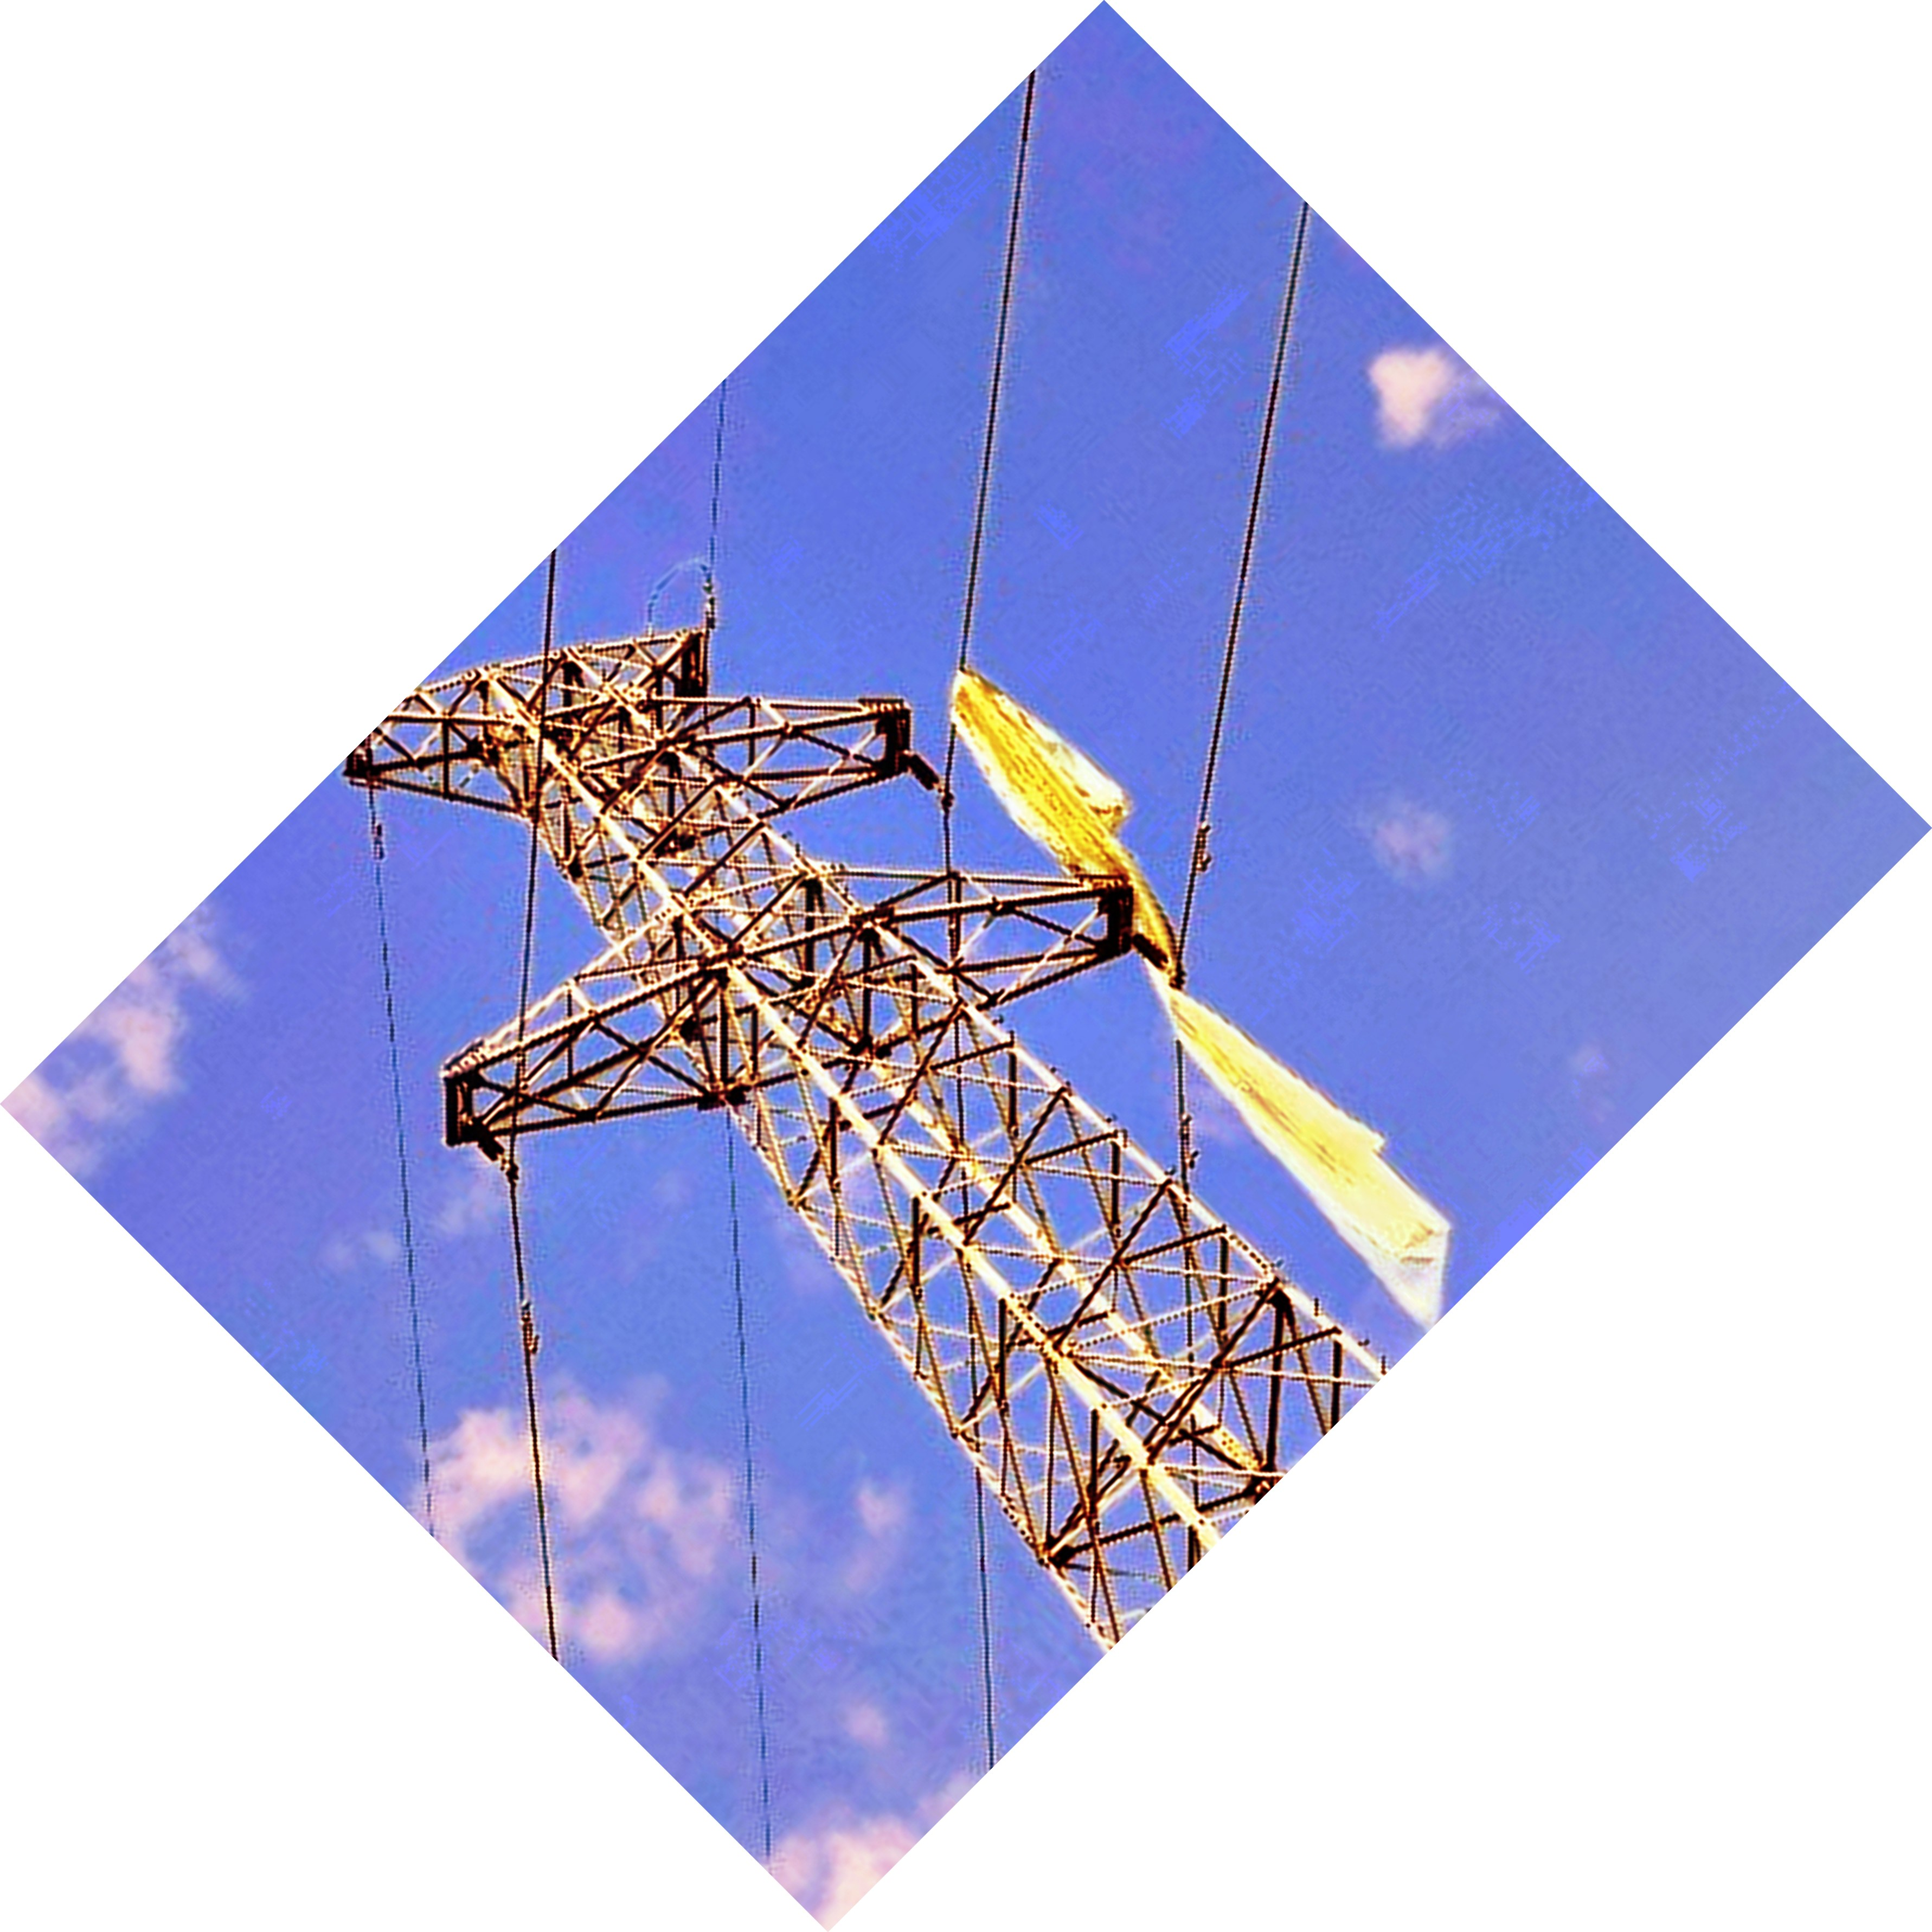wire foreign body: (934, 653, 1479, 1306)
